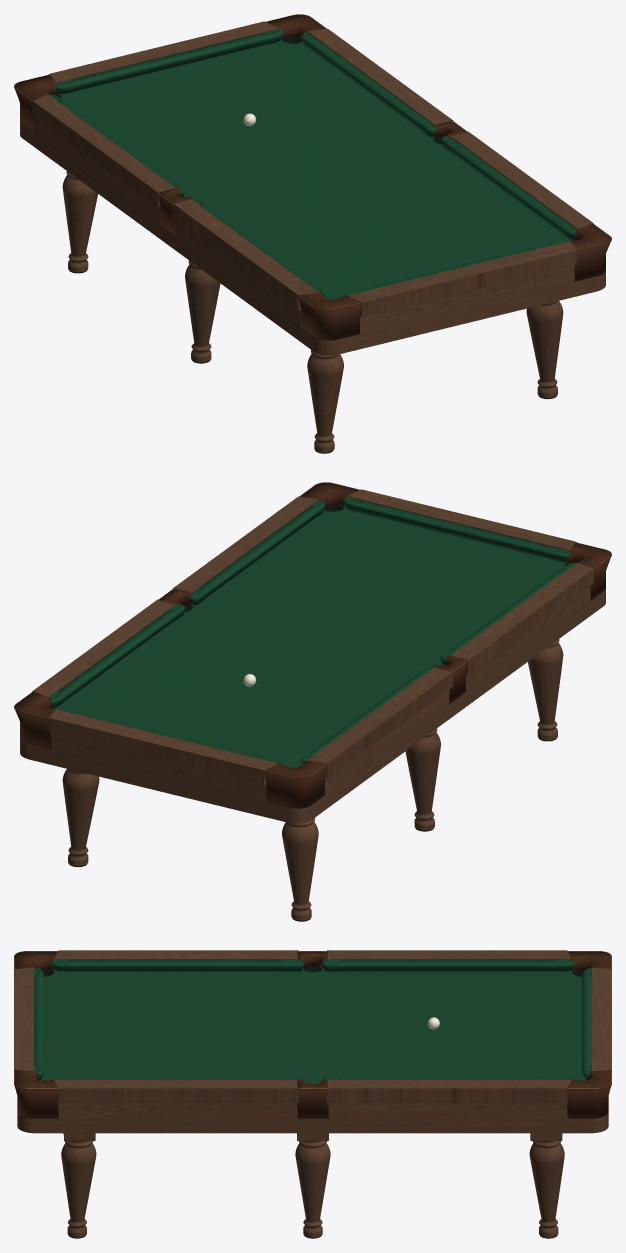
The model's file is chinese-pool-table.glb.
3 renders of one model, top to bottom at view 1: azimuth 30°, elevation 25°; view 2: azimuth 150°, elevation 25°; view 3: azimuth 270°, elevation 25°, orthographic. The views are drawn at different scales.
Visible parts, largest first — view 1: 03 Baize bed and cloth shelf, 04 Layered walnut apron, 01 Timber cap 1, 01 Timber cap 3, 01 Timber cap 4, 07 End cushion 1, 01 Timber cap 6, 12 Sculpted walnut leg 0 0, 01 Timber cap 5, 01 Timber cap 2, 12 Sculpted walnut leg 0 1, 12 Sculpted walnut leg 1 0 (+12 smaller); view 2: 03 Baize bed and cloth shelf, 04 Layered walnut apron, 01 Timber cap 6, 01 Timber cap 4, 01 Timber cap 3, 07 End cushion -1, 01 Timber cap 1, 12 Sculpted walnut leg 2 0, 01 Timber cap 2, 01 Timber cap 5, 12 Sculpted walnut leg 2 1, 12 Sculpted walnut leg 1 0 (+12 smaller); view 3: 03 Baize bed and cloth shelf, 04 Layered walnut apron, 01 Timber cap 2, 01 Timber cap 5, 06 Long cushion -1 -1, 06 Long cushion -1 1, 01 Timber cap 3, 01 Timber cap 4, 12 Sculpted walnut leg 0 1, 12 Sculpted walnut leg 2 1, 12 Sculpted walnut leg 1 1, 01 Timber cap 1 (+14 smaller).
Part boxes in pixels (x1,y1,x2,y2): 03 Baize bed and cloth shelf: (58,39,572,299); 04 Layered walnut apron: (20,118,605,355); 01 Timber cap 1: (348,241,576,317); 01 Timber cap 3: (172,199,317,310); 01 Timber cap 4: (32,94,174,207); 07 End cushion 1: (56,29,283,94); 01 Timber cap 6: (49,21,278,83); 12 Sculpted walnut leg 0 0: (307,350,343,447); 01 Timber cap 5: (307,28,453,124); 01 Timber cap 2: (451,131,593,229); 12 Sculpted walnut leg 0 1: (526,301,563,393); 12 Sculpted walnut leg 1 0: (185,260,220,357); 03 Baize bed and cloth shelf: (53,507,567,767); 04 Layered walnut apron: (20,586,605,823); 01 Timber cap 6: (49,709,277,785); 01 Timber cap 4: (308,667,453,778); 01 Timber cap 3: (451,562,593,675); 07 End cushion -1: (342,497,569,562); 01 Timber cap 1: (347,489,576,551); 12 Sculpted walnut leg 2 0: (282,818,318,915); 01 Timber cap 2: (172,496,318,592); 01 Timber cap 5: (32,599,174,697); 12 Sculpted walnut leg 2 1: (62,769,99,861); 12 Sculpted walnut leg 1 0: (405,728,440,825); 03 Baize bed and cloth shelf: (40,968,585,1083); 04 Layered walnut apron: (17,1103,608,1132); 01 Timber cap 2: (54,1080,298,1102); 01 Timber cap 5: (327,1080,571,1102); 06 Long cushion -1 -1: (51,959,304,971); 06 Long cushion -1 1: (321,959,574,971); 01 Timber cap 3: (54,950,298,959); 01 Timber cap 4: (327,950,571,959); 12 Sculpted walnut leg 0 1: (61,1133,96,1233); 12 Sculpted walnut leg 2 1: (529,1133,564,1233); 12 Sculpted walnut leg 1 1: (295,1140,330,1233); 01 Timber cap 1: (14,967,33,1071).
Bounding box in the file's own units: 1.54 × 0.8572 × 2.82.
Materials: 10 (4 with a texture image).
